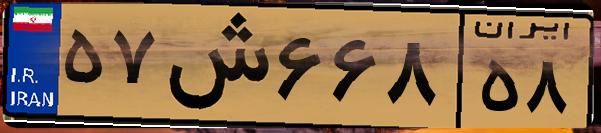5: (57, 26, 110, 100), (475, 38, 525, 113)
6: (270, 28, 330, 110), (330, 28, 385, 110)
7: (110, 28, 158, 98)
8: (385, 28, 445, 110), (525, 38, 570, 115)
ش: (158, 12, 270, 120)
